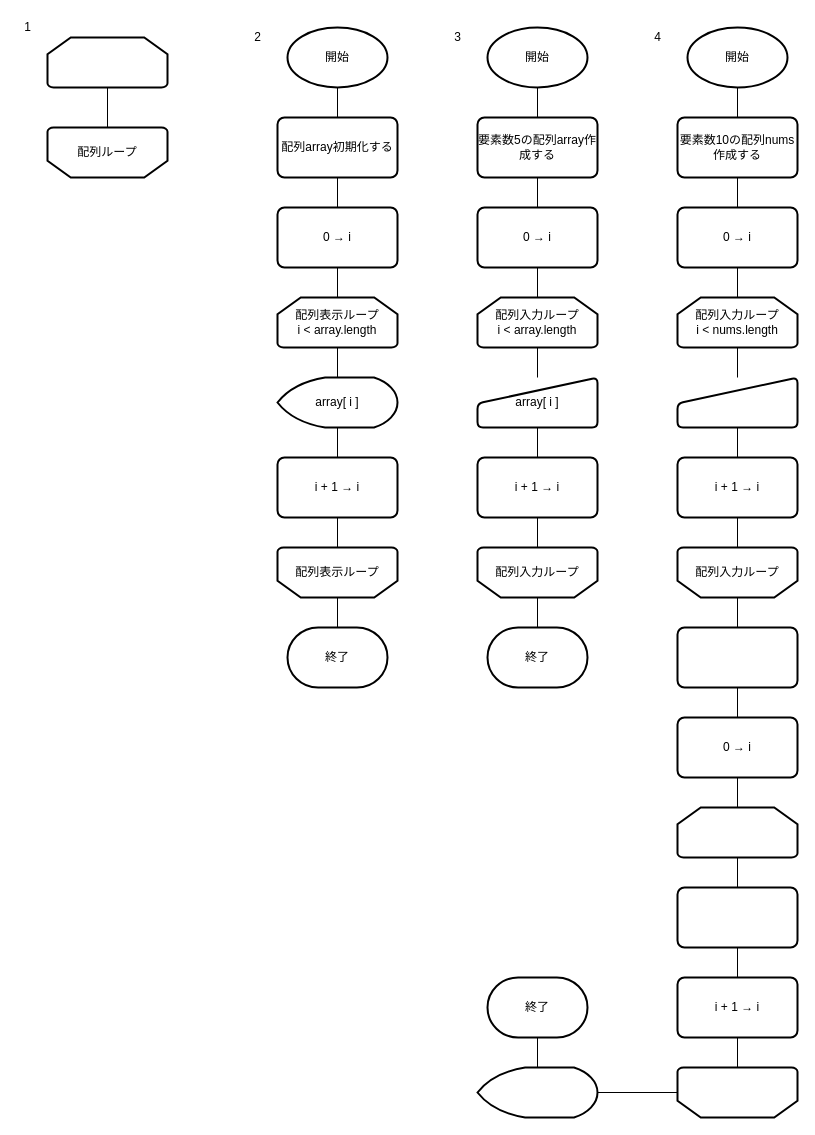
Image size: 815x1135. Some labels were removed from this diagram. Here are the shapes that lost their labels. From the top down, the box of each, then its label:
(46, 36, 168, 88): 配列ループ i < array.length
(676, 376, 798, 428): nums[ i ]
(676, 626, 798, 688): 0 → total
(676, 806, 798, 858): 要素合計ループ i < nums.length
(676, 886, 798, 948): total + num[ i ] → total
(476, 1066, 598, 1118): total
(676, 1066, 798, 1118): 要素合計ループ
